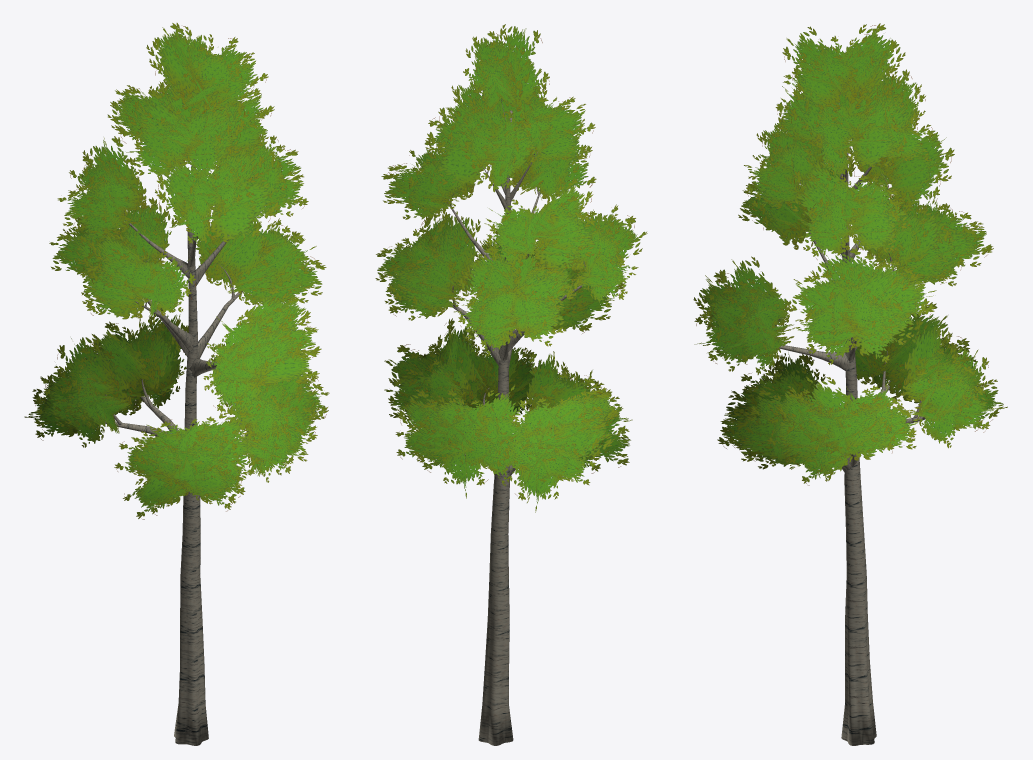
The model's file is SM_Tree01.fbx.
3 views of the same model, side by side, from view 1: azimuth 30°, elevation 25°; view 2: azimuth 150°, elevation 25°; view 3: azimuth 270°, elevation 25° (orthographic). The views are drawn at different scales.
Visible parts, largest first — view 1: SM_Tree01_LOD0; view 2: SM_Tree01_LOD0; view 3: SM_Tree01_LOD0.
Boxes of the visible parts, x1=… form: SM_Tree01_LOD0: x1=24, y1=23, x2=329, y2=745; SM_Tree01_LOD0: x1=375, y1=24, x2=647, y2=745; SM_Tree01_LOD0: x1=693, y1=23, x2=1007, y2=745.
Bounding box in the file's own units: 264 × 286 × 678.
Materials: 2 (2 with a texture image).
